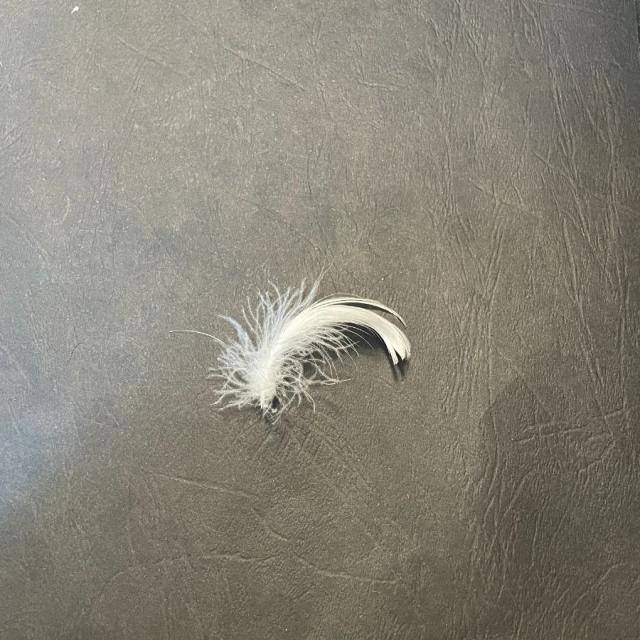feather: (204, 275, 413, 419)
